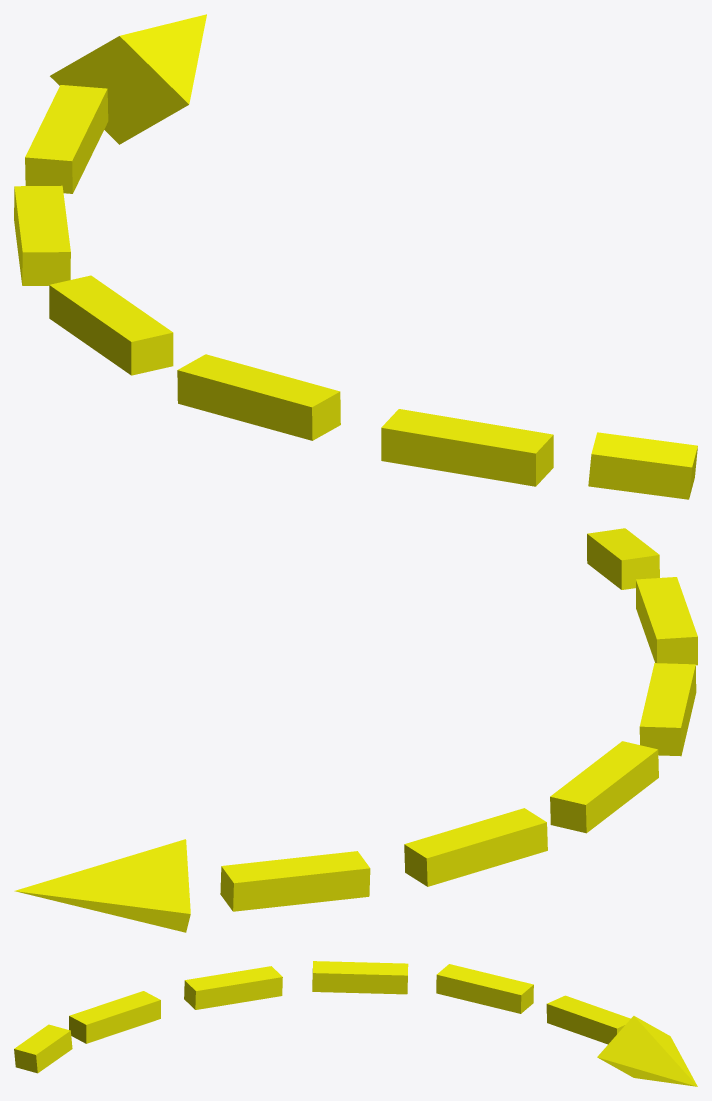
Rendered from curved-arrow-small-head.glb.
3 views of the same model, one above another, from view 1: azimuth 30°, elevation 25°; view 2: azimuth 150°, elevation 25°; view 3: azimuth 270°, elevation 25° (orthographic). The views are drawn at different scales.
Parts seen in each view (by area): view 1: Cone, Cube.001, Cube.002, Cube.003, Cube.005, Cube.006, Cube.004; view 2: Cone, Cube.005, Cube.004, Cube.003, Cube.001, Cube.002, Cube.006; view 3: Cone, Cube.004, Cube.002, Cube.003, Cube.001, Cube.005, Cube.006.
Part boxes in pixels (x1=…): Cone: x1=50, y1=14, x2=206, y2=144; Cube.001: x1=381, y1=409, x2=553, y2=486; Cube.002: x1=177, y1=354, x2=340, y2=440; Cube.003: x1=49, y1=275, x2=173, y2=375; Cube.005: x1=25, y1=85, x2=108, y2=193; Cube.006: x1=588, y1=432, x2=697, y2=499; Cube.004: x1=14, y1=185, x2=70, y2=285; Cone: x1=14, y1=839, x2=190, y2=932; Cube.005: x1=220, y1=851, x2=370, y2=911; Cube.004: x1=404, y1=808, x2=547, y2=886; Cube.003: x1=550, y1=741, x2=658, y2=833; Cube.001: x1=636, y1=577, x2=697, y2=665; Cube.002: x1=639, y1=663, x2=696, y2=756; Cube.006: x1=587, y1=528, x2=659, y2=589; Cone: x1=597, y1=1016, x2=697, y2=1086; Cube.004: x1=436, y1=964, x2=533, y2=1013; Cube.002: x1=184, y1=966, x2=282, y2=1009; Cube.003: x1=312, y1=961, x2=408, y2=994; Cube.001: x1=69, y1=991, x2=160, y2=1043; Cube.005: x1=546, y1=995, x2=630, y2=1044; Cube.006: x1=14, y1=1024, x2=72, y2=1073.
Bounding box in the file's own units: 1.39 × 0.3514 × 3.49.
